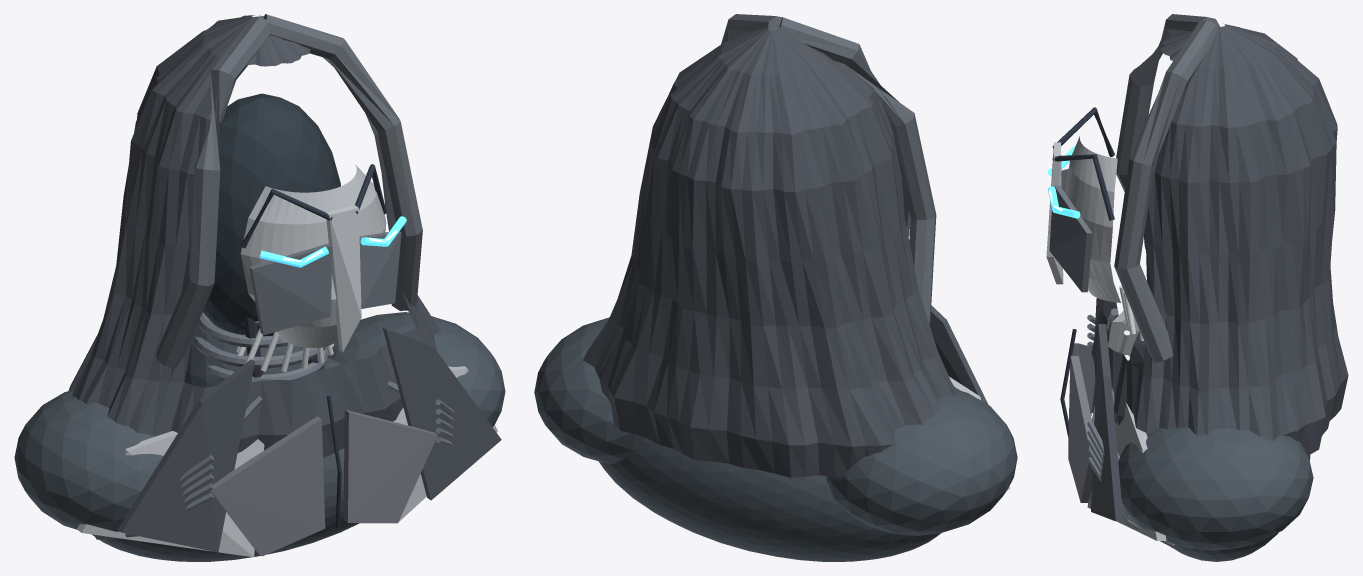
Rendered from ghost_001.glb.
3 renders of one model, left to right at view 1: azimuth 30°, elevation 25°; view 2: azimuth 150°, elevation 25°; view 3: azimuth 270°, elevation 25°, orthographic. The views are drawn at different scales.
Parts seen in each view (by area): view 1: HEAD_fabric, TORSO_dark_steel, TORSO_fabric, TORSO_chrome, HEAD_fabric_fold, HEAD_rubber, HEAD_brushed_silver, HEAD_gunmetal, TORSO_gunmetal, HEAD_polished_silver, TORSO_brushed_silver, HEAD_black (+3 smaller); view 2: HEAD_fabric, TORSO_dark_steel, HEAD_fabric_fold, TORSO_fabric; view 3: HEAD_fabric, TORSO_dark_steel, HEAD_fabric_fold, HEAD_brushed_silver, TORSO_fabric, TORSO_chrome, HEAD_gunmetal, TORSO_brushed_silver, TORSO_gunmetal, HEAD_black, HEAD_polished_silver, TORSO_bright_steel (+2 smaller).
Boxes of the visible parts, x1,y1,x2,y2 form: HEAD_fabric: [68, 15, 441, 457]; TORSO_dark_steel: [14, 312, 505, 561]; TORSO_fabric: [117, 327, 501, 552]; TORSO_chrome: [210, 409, 437, 556]; HEAD_fabric_fold: [156, 14, 422, 367]; HEAD_rubber: [203, 93, 340, 336]; HEAD_brushed_silver: [240, 164, 386, 347]; HEAD_gunmetal: [249, 231, 401, 334]; TORSO_gunmetal: [95, 312, 455, 539]; HEAD_polished_silver: [326, 205, 361, 352]; TORSO_brushed_silver: [77, 366, 497, 557]; HEAD_black: [240, 164, 386, 248]; HEAD_fabric: [582, 25, 956, 477]; TORSO_dark_steel: [534, 317, 1017, 561]; HEAD_fabric_fold: [721, 14, 936, 323]; TORSO_fabric: [929, 305, 988, 404]; HEAD_fabric: [1091, 23, 1348, 454]; TORSO_dark_steel: [1118, 331, 1313, 561]; HEAD_fabric_fold: [1114, 14, 1220, 362]; HEAD_brushed_silver: [1065, 136, 1120, 302]; TORSO_fabric: [1091, 298, 1123, 521]; TORSO_chrome: [1068, 343, 1095, 502]; HEAD_gunmetal: [1049, 168, 1092, 292]; TORSO_brushed_silver: [1087, 310, 1166, 540]; TORSO_gunmetal: [1087, 308, 1174, 547]; HEAD_black: [1052, 107, 1114, 220]; HEAD_polished_silver: [1046, 142, 1063, 284]; TORSO_bright_steel: [1118, 285, 1143, 360].
Size of the model in its own units: 2.04 by 2.25 by 1.21.
